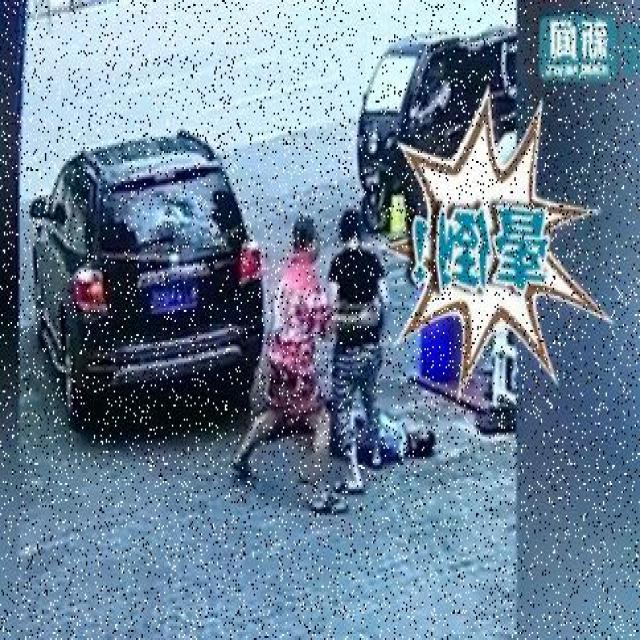fall: (280, 384, 435, 464)
